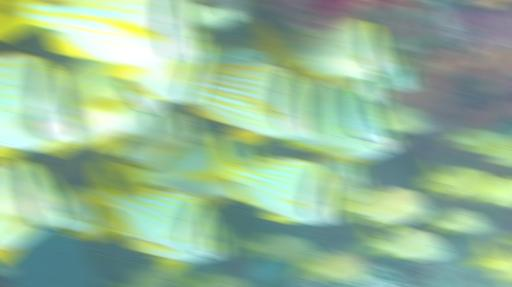Fish: (0, 0, 203, 76), (85, 163, 228, 270), (199, 141, 350, 223), (40, 60, 163, 155), (107, 133, 262, 199), (190, 62, 317, 141), (252, 19, 399, 79), (0, 55, 88, 151), (281, 87, 394, 151), (0, 162, 70, 248), (123, 38, 210, 102), (105, 115, 204, 167), (339, 187, 430, 231), (123, 235, 228, 272), (356, 226, 449, 259), (417, 162, 496, 200), (49, 186, 104, 238), (232, 234, 321, 264), (302, 75, 393, 103), (320, 131, 401, 162), (292, 252, 371, 281), (308, 156, 371, 188), (466, 239, 511, 281), (185, 0, 246, 30), (445, 126, 510, 154), (376, 102, 433, 132), (128, 103, 172, 139), (206, 48, 283, 67), (427, 210, 488, 232), (470, 137, 511, 167), (381, 60, 420, 90), (327, 173, 368, 200), (133, 263, 180, 286), (198, 274, 245, 286), (461, 0, 508, 8), (492, 230, 511, 249), (0, 264, 16, 275), (0, 4, 3, 13)
